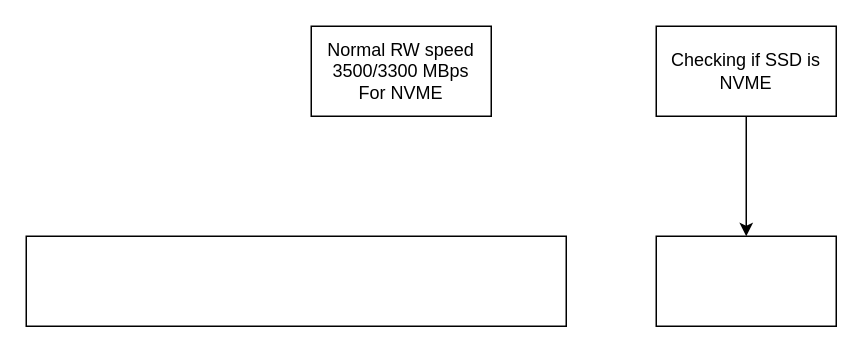
Image size: 863x353. Some labels were removed from this diagram. Here are the shapes that lost their labels. From the top down, the centre of each, then its label:
At [295,280]: "NVME SSD's are upto 7x faster than the regular SATA SSD's".
At [745,280]: "Check the Hardware Id property".
